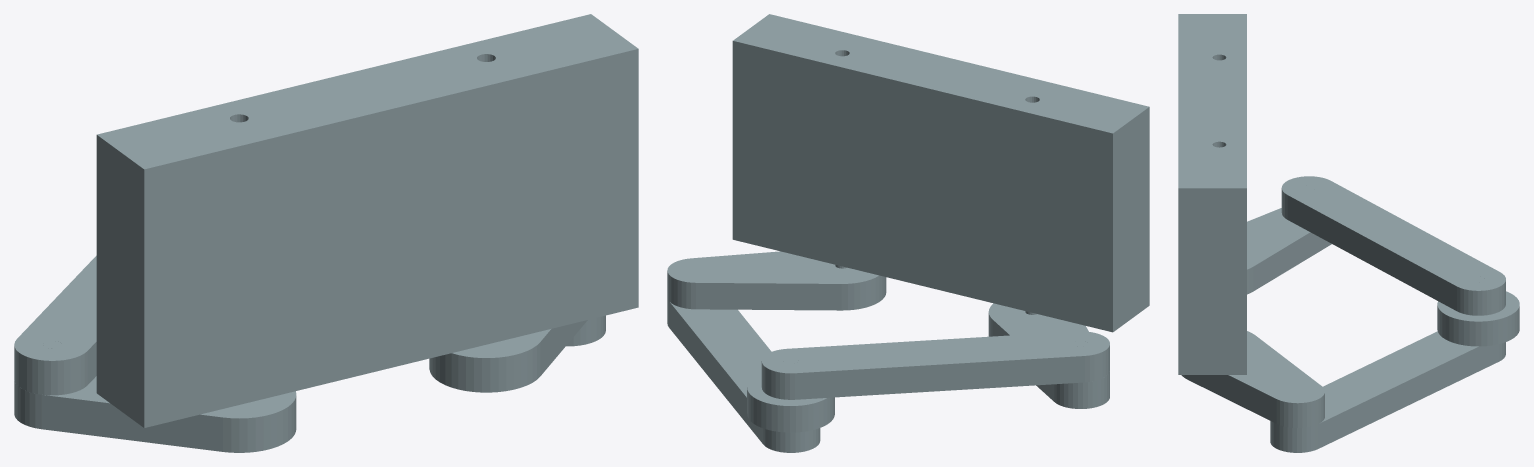
File: Simple Robot Consept Assembly v2_1.obj
3 views of the same model, side by side, from view 1: azimuth 30°, elevation 25°; view 2: azimuth 150°, elevation 25°; view 3: azimuth 270°, elevation 25° (orthographic). The views are drawn at different scales.
Parts seen in each view (by area): view 1: Simple_Robot_Consept_Assembly_v2_1; view 2: Simple_Robot_Consept_Assembly_v2_1; view 3: Simple_Robot_Consept_Assembly_v2_1.
Part boxes in pixels (bbox=[...]): Simple_Robot_Consept_Assembly_v2_1: bbox=[14, 14, 638, 452]; Simple_Robot_Consept_Assembly_v2_1: bbox=[667, 14, 1149, 452]; Simple_Robot_Consept_Assembly_v2_1: bbox=[1178, 14, 1519, 452].
Size of the model in its own units: 348 by 200 by 249.
